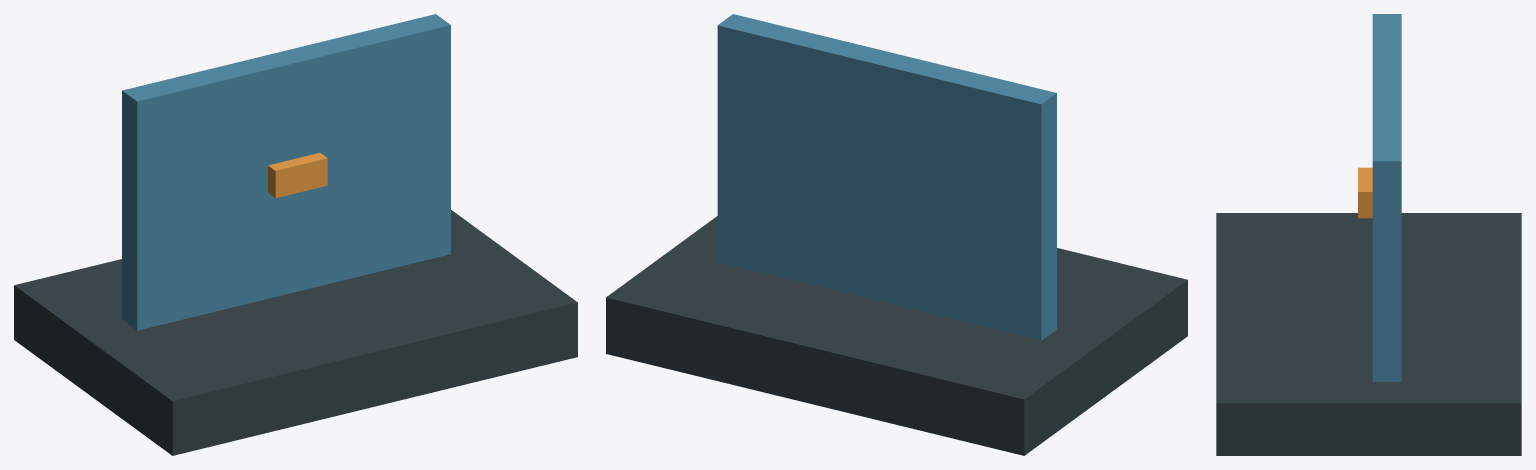
Rendered from primary_workstation.glb.
3 views of the same model, side by side, from view 1: azimuth 30°, elevation 25°; view 2: azimuth 150°, elevation 25°; view 3: azimuth 270°, elevation 25° (orthographic). The views are drawn at different scales.
Visible parts, largest first — view 1: primary_workstation display, primary_workstation, primary_workstation indicator; view 2: primary_workstation display, primary_workstation; view 3: primary_workstation, primary_workstation display, primary_workstation indicator.
Part boxes in pixels (left/top/right/bottom): primary_workstation display: left=122, top=14, right=450, bottom=330; primary_workstation: left=14, top=210, right=577, bottom=455; primary_workstation indicator: left=268, top=153, right=327, bottom=198; primary_workstation display: left=717, top=14, right=1056, bottom=340; primary_workstation: left=606, top=216, right=1187, bottom=455; primary_workstation: left=1216, top=213, right=1521, bottom=455; primary_workstation display: left=1372, top=14, right=1401, bottom=381; primary_workstation indicator: left=1358, top=167, right=1372, bottom=218.
Size of the model in its own units: 1.24 by 0.83 by 0.84.
